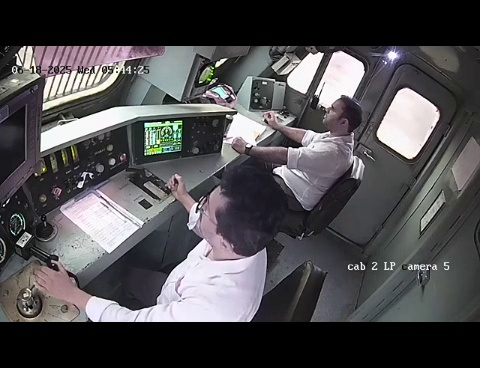brake_applied: (3, 251, 119, 322)
horn_inactive: (29, 211, 66, 246)
